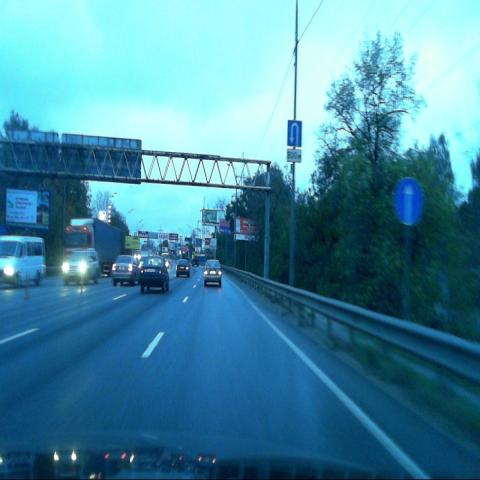6_3_1: (288, 121, 301, 145)
